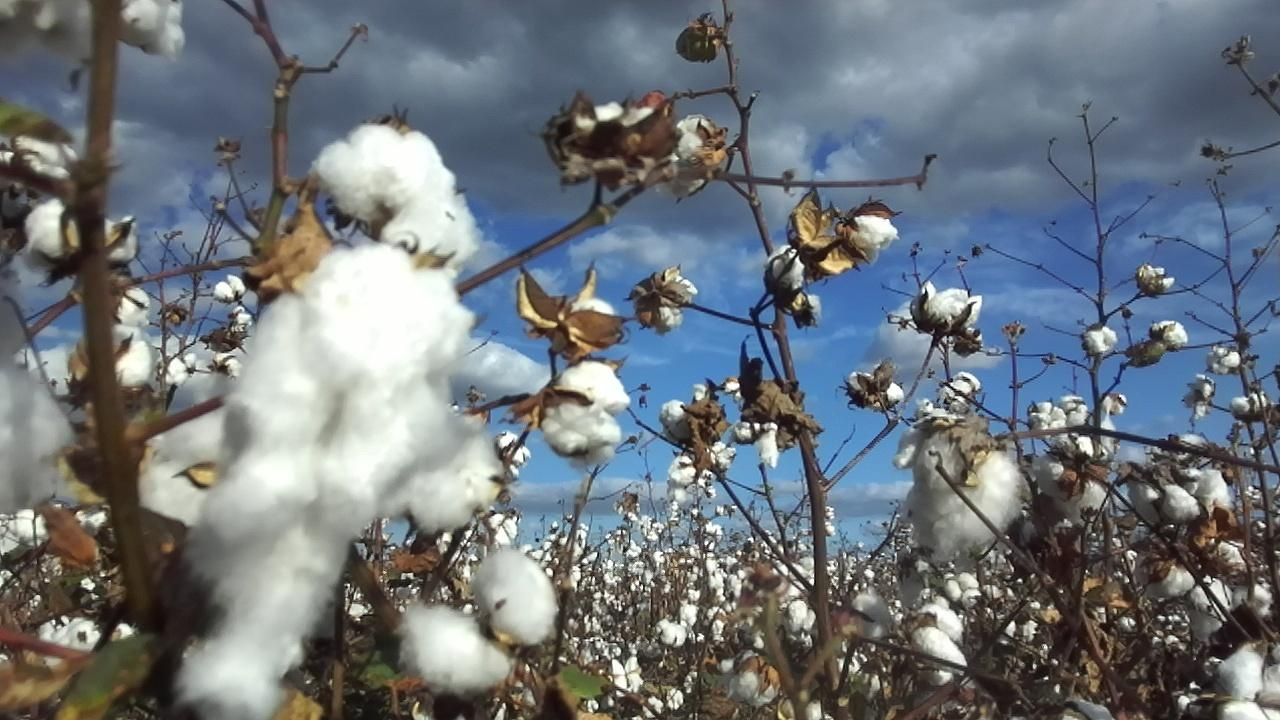cotton_ready: (179, 244, 479, 720), (400, 547, 557, 692), (309, 125, 479, 257), (0, 282, 79, 519), (908, 424, 1020, 557), (140, 373, 228, 524), (384, 432, 505, 531), (0, 133, 72, 272), (540, 361, 630, 467), (1134, 531, 1242, 602), (103, 215, 152, 327), (0, 0, 95, 57), (1219, 637, 1280, 720), (1169, 434, 1235, 509), (1125, 464, 1200, 525), (1037, 452, 1106, 513), (914, 605, 968, 682), (117, 0, 185, 57), (914, 285, 984, 339), (569, 104, 657, 142), (112, 326, 165, 389), (639, 275, 697, 330), (657, 386, 714, 439), (845, 211, 898, 267), (657, 114, 710, 167), (769, 247, 807, 297), (574, 297, 616, 333)
